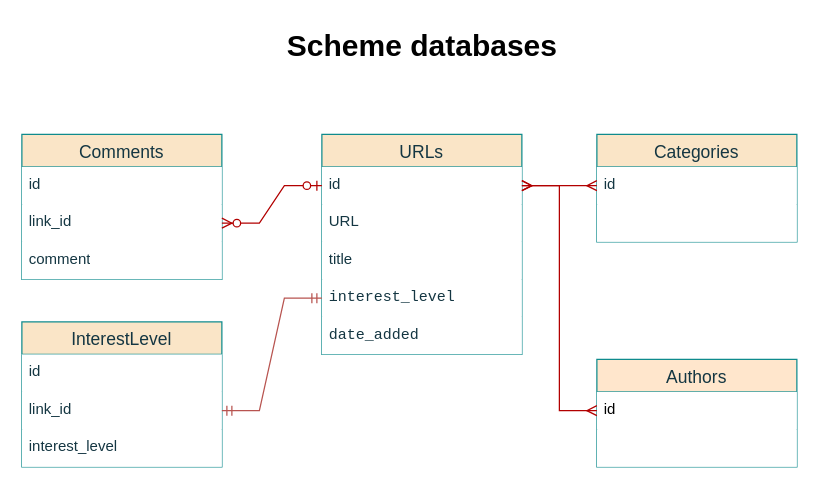
Image size: 819x491. Some labels were removed from this diagram. Each missing label, with the centre of its shape:
"author" belongs at point 696,447.
"name" belongs at point 696,222.
